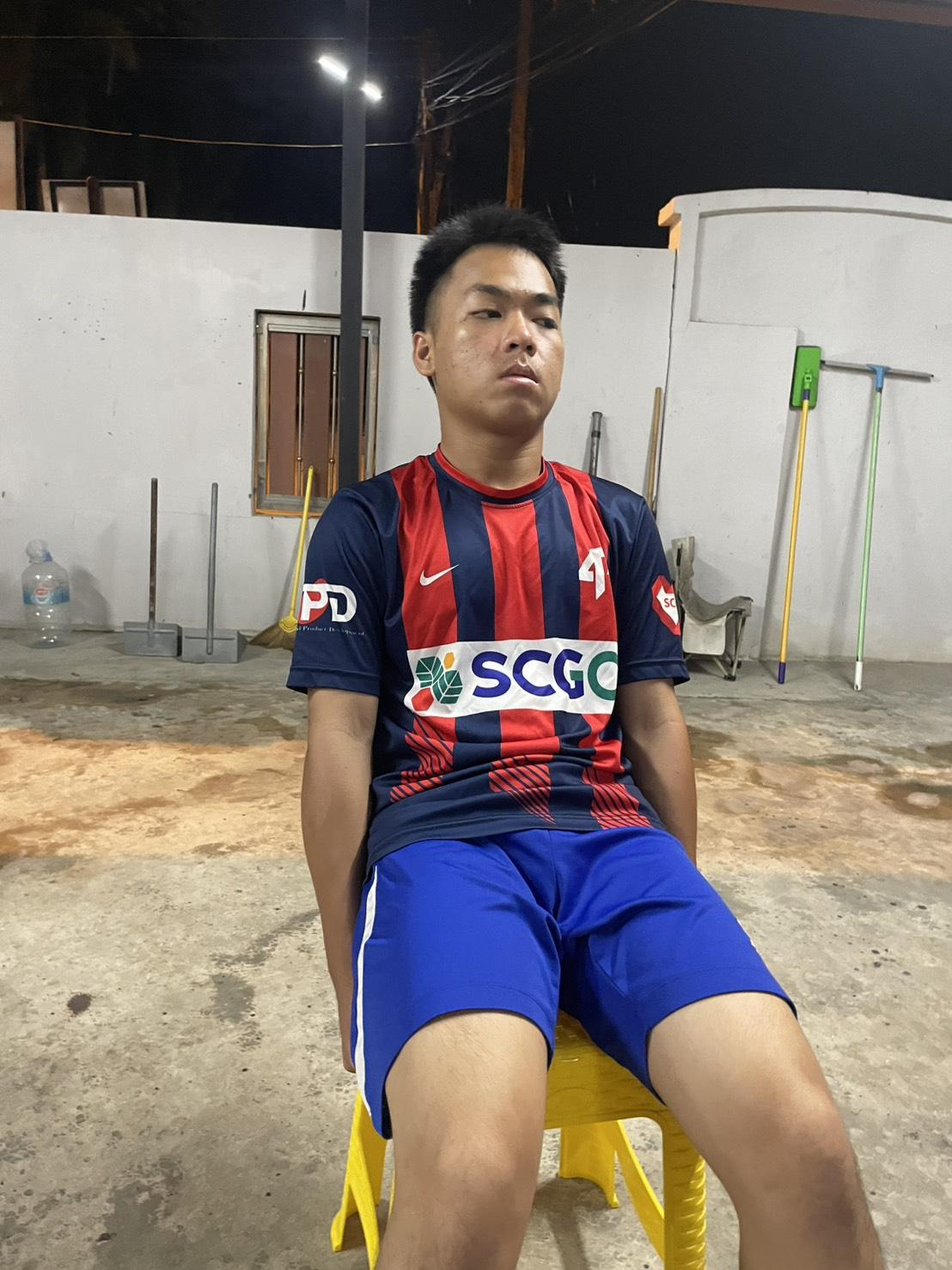BadPosture: (288, 206, 879, 1267), (289, 206, 695, 947)
